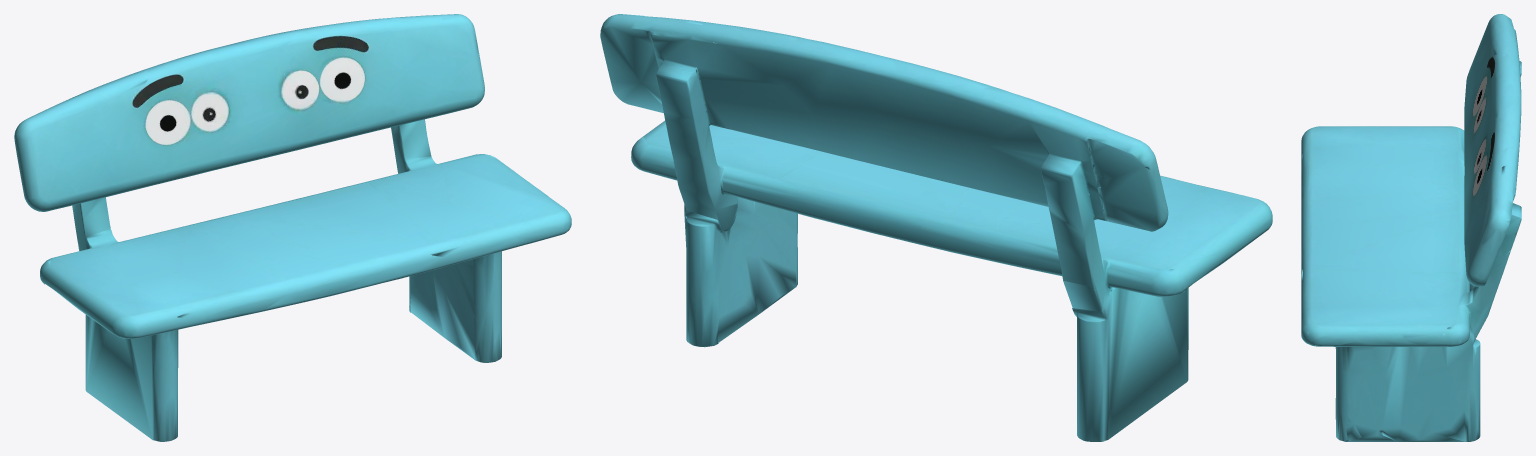
The model's file is clay-bench.glb.
3 views of the same model, side by side, from view 1: azimuth 30°, elevation 25°; view 2: azimuth 150°, elevation 25°; view 3: azimuth 270°, elevation 25° (orthographic). The views are drawn at different scales.
Bounding box in the file's own units: 1.91 × 1.16 × 0.858.
Materials: 1 (1 with a texture image).
